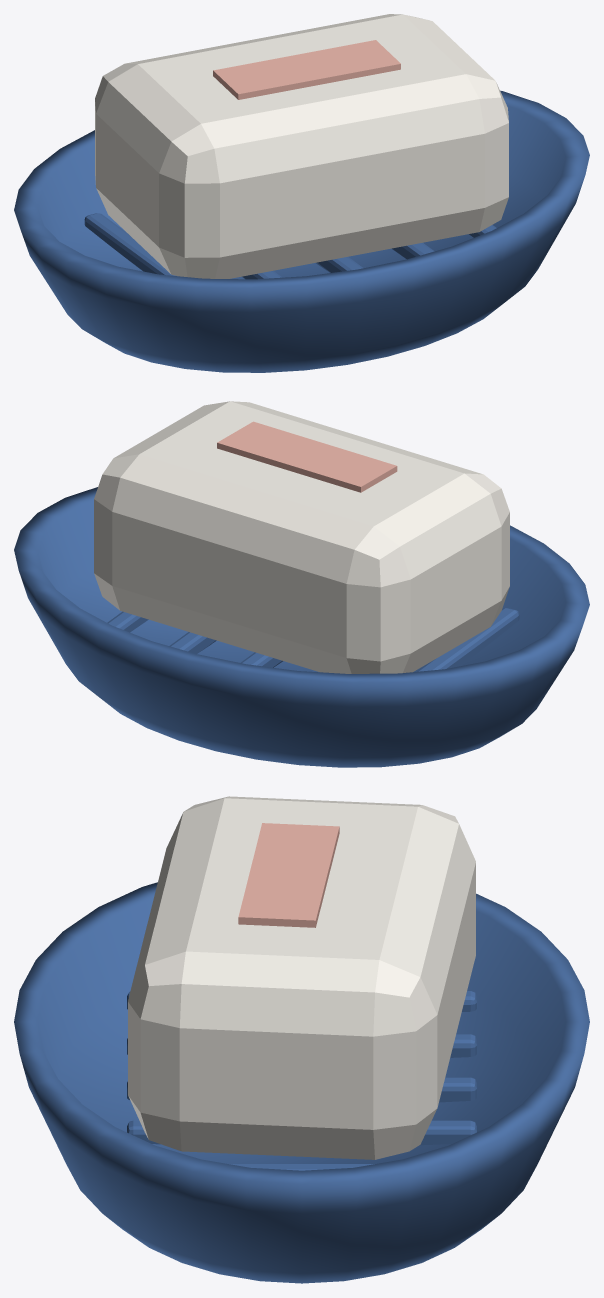
The model's file is hh_cat_soap_dish.glb.
3 views of the same model, one above another, from view 1: azimuth 30°, elevation 25°; view 2: azimuth 150°, elevation 25°; view 3: azimuth 270°, elevation 25° (orthographic). The views are drawn at different scales.
Visible parts, largest first — view 1: soap, dish, soap_stamp, ridge, ridge.002; view 2: soap, dish, soap_stamp, ridge, ridge.003, ridge.004; view 3: soap, dish, soap_stamp, ridge.003, ridge.002, ridge.004.
Boxes of the visible parts, x1,y1,x2,y2 form: soap: (95,14,508,278); dish: (14,90,589,372); soap_stamp: (213,40,400,99); ridge: (84,213,177,276); ridge.002: (316,257,363,272); soap: (94,401,509,673); dish: (14,487,589,767); soap_stamp: (217,421,397,492); ridge: (416,608,519,671); ridge.003: (169,632,216,653); ridge.004: (107,611,148,632); soap: (128,796,475,1159); dish: (14,882,589,1283); soap_stamp: (238,823,339,927); ridge.003: (127,1120,476,1145); ridge.002: (127,1077,476,1102); ridge.004: (229,1164,374,1170).
Bounding box in the file's own units: 0.12 × 0.05 × 0.09.
